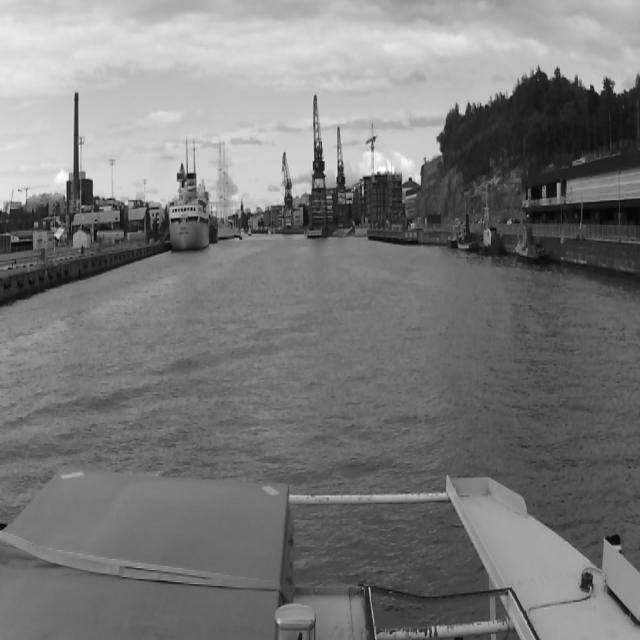ship: (167, 172, 209, 252), (206, 131, 236, 241), (513, 224, 541, 264), (476, 227, 502, 260), (455, 216, 474, 255), (205, 207, 218, 243)
